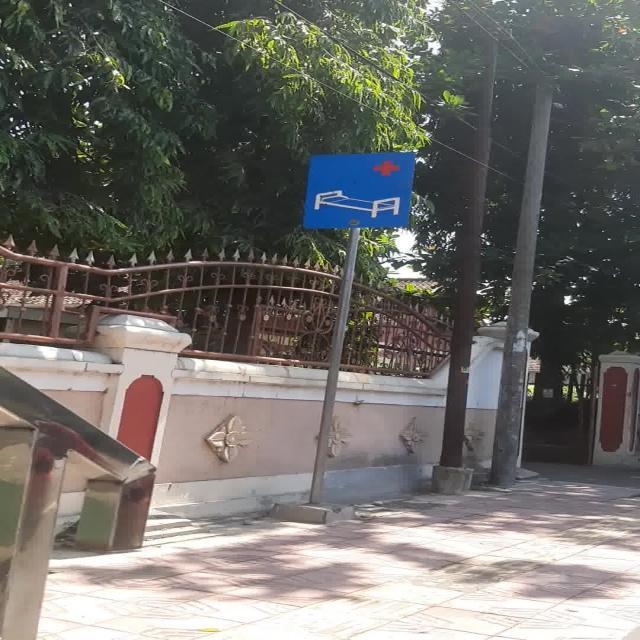Rumah Sakit: (302, 154, 414, 228)
